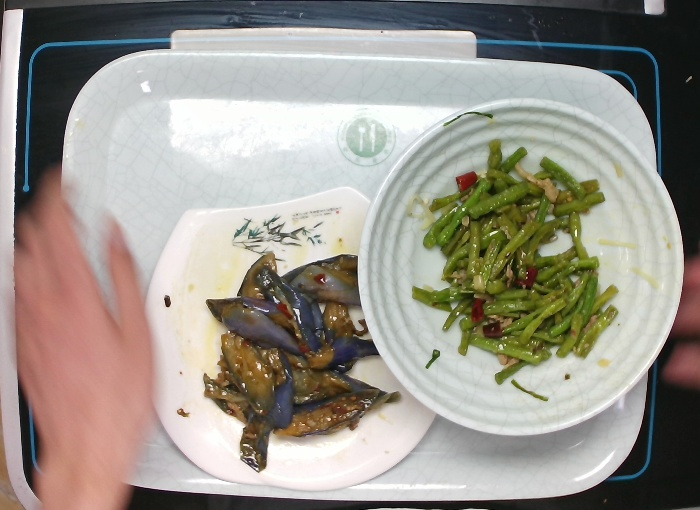JYsf-Da_Tang_Wan: (353, 92, 688, 440)
JYsf-Mian_Pan: (137, 179, 443, 495)
